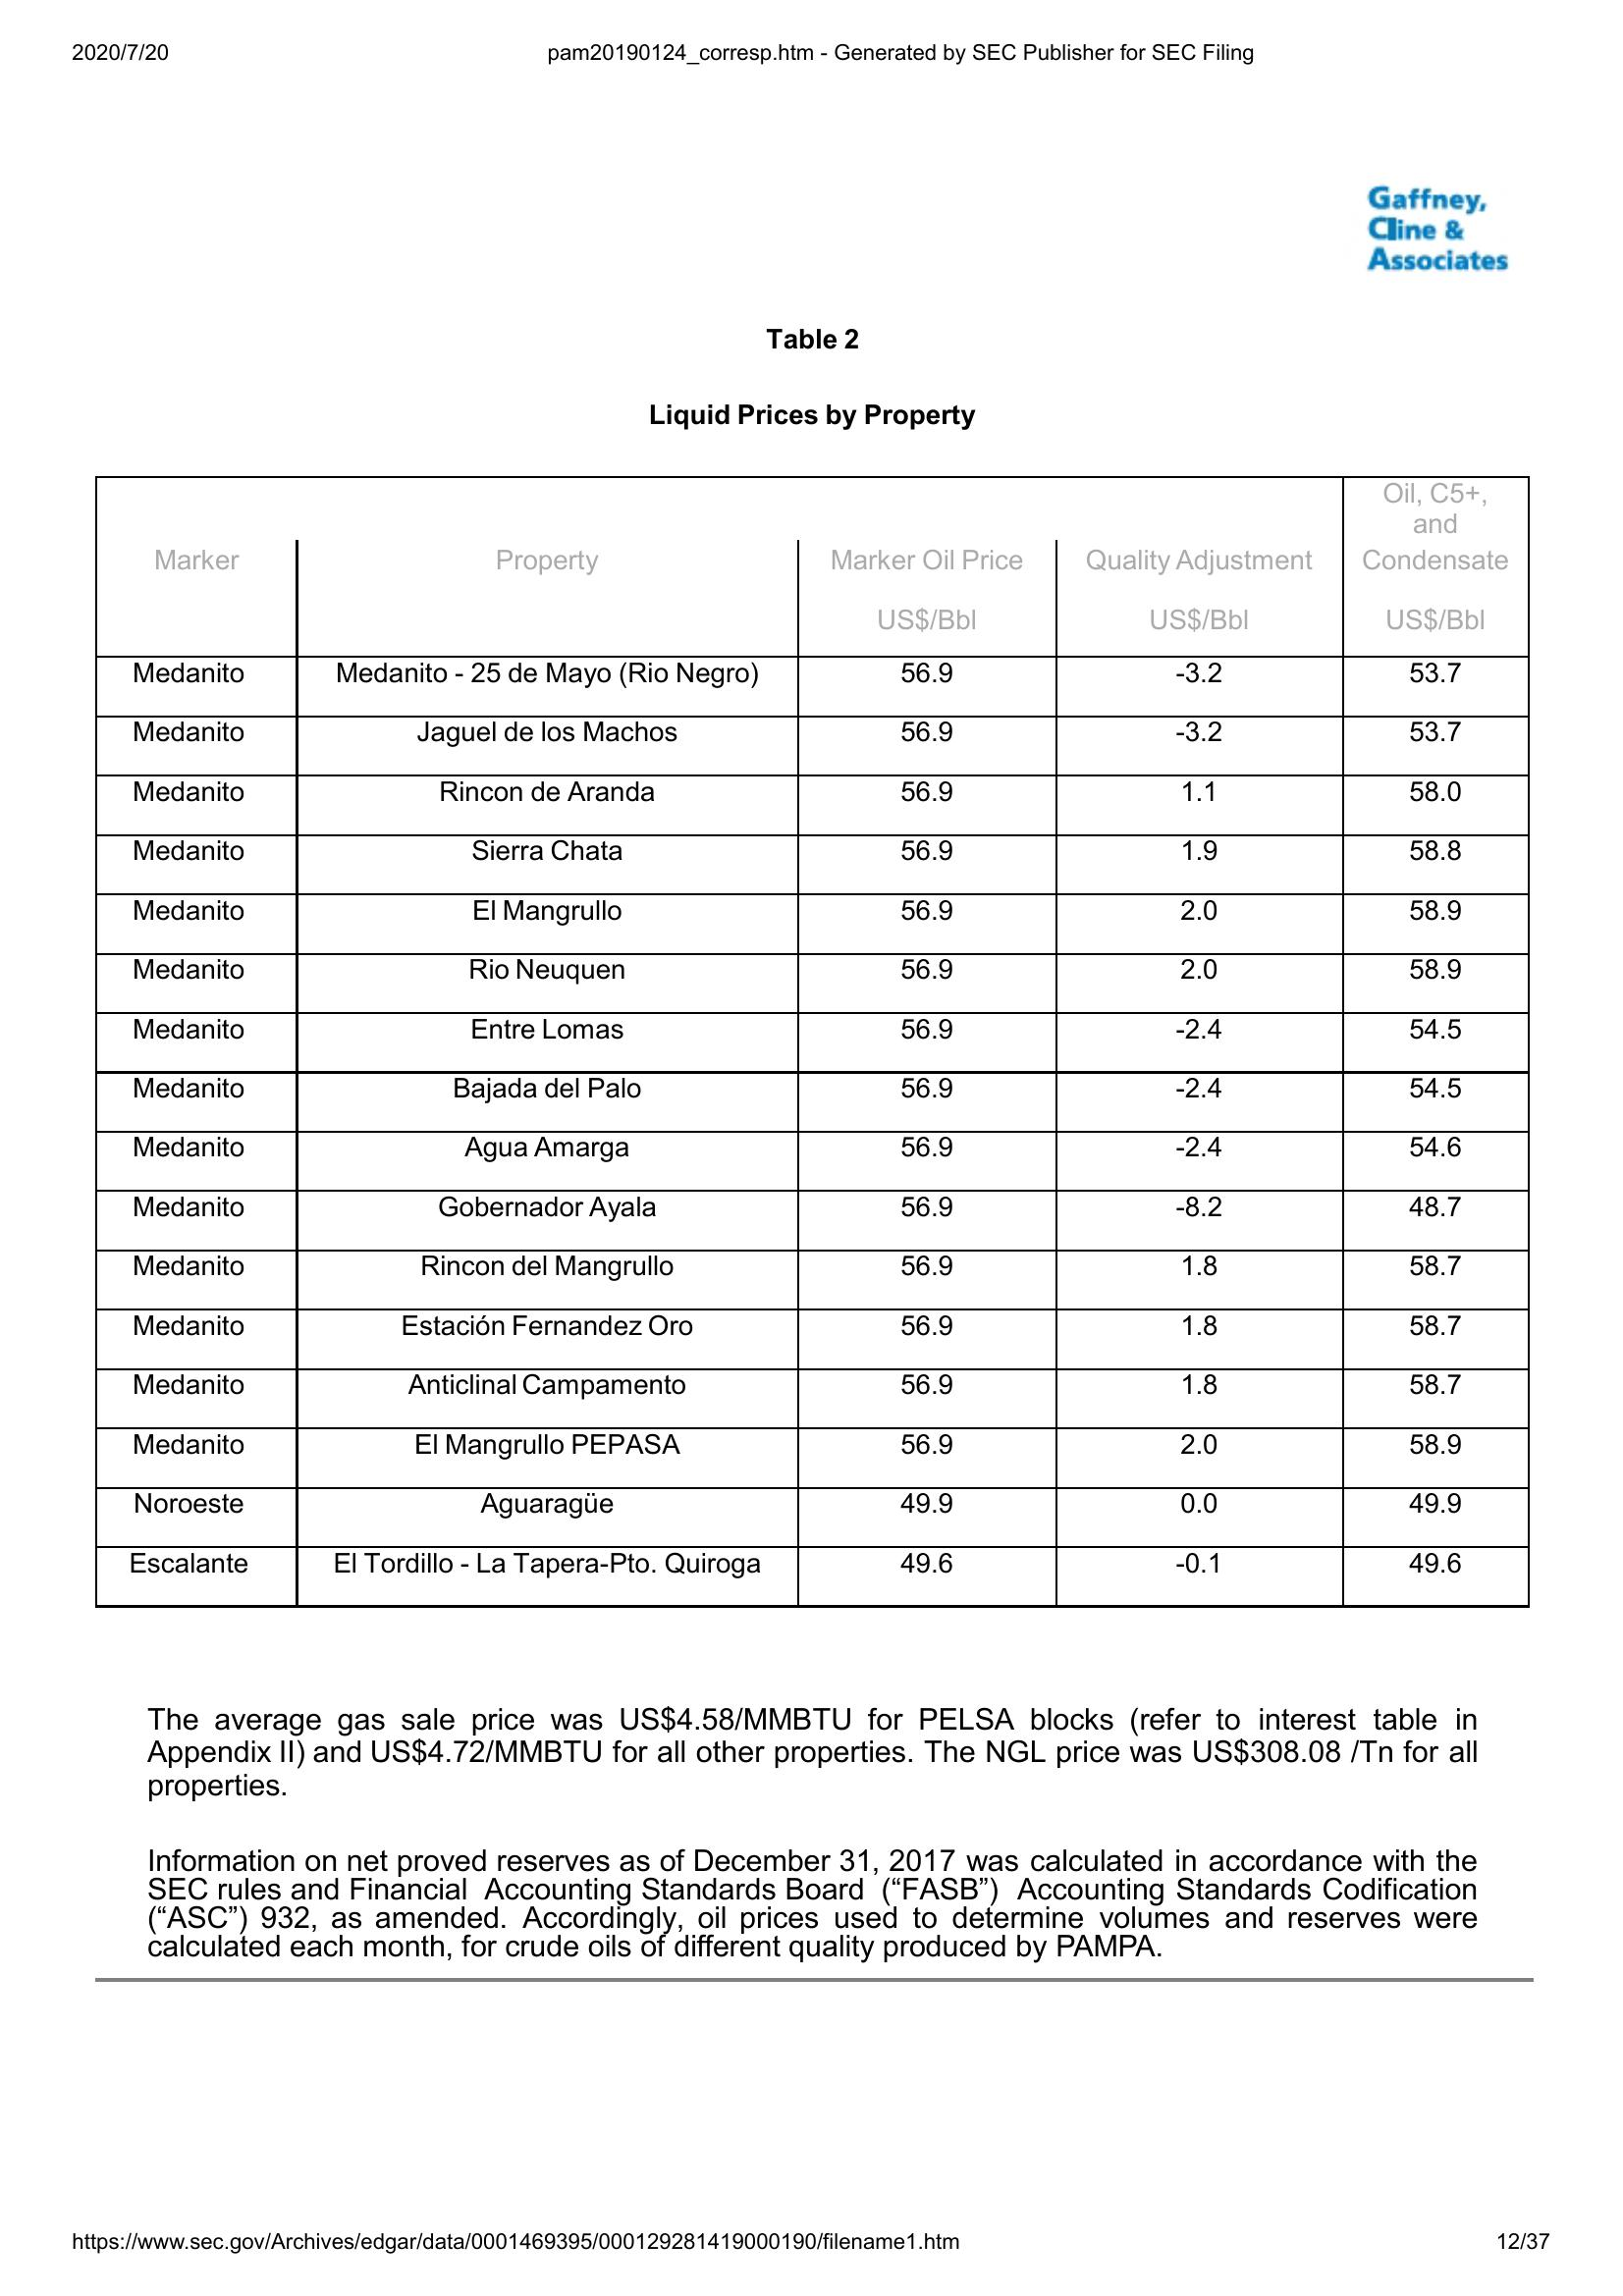table: (88, 472, 1535, 1615)
